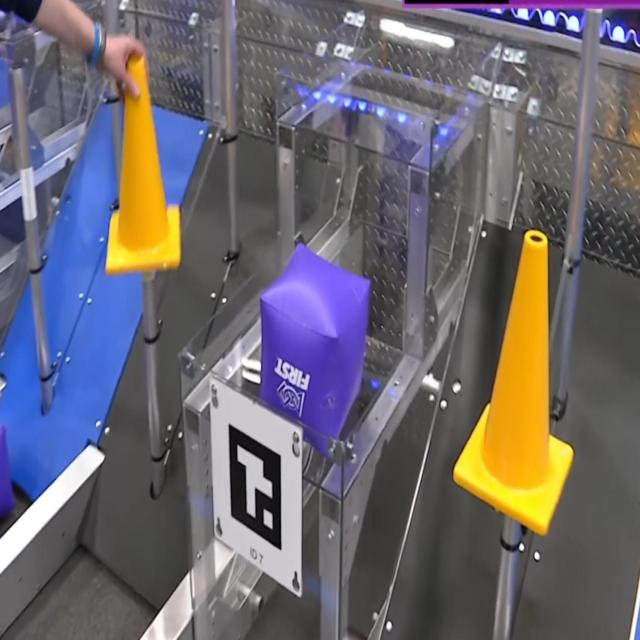frc_cone: (452, 227, 576, 536), (104, 54, 182, 272)
frc_cube: (260, 239, 371, 460), (0, 422, 17, 520)
